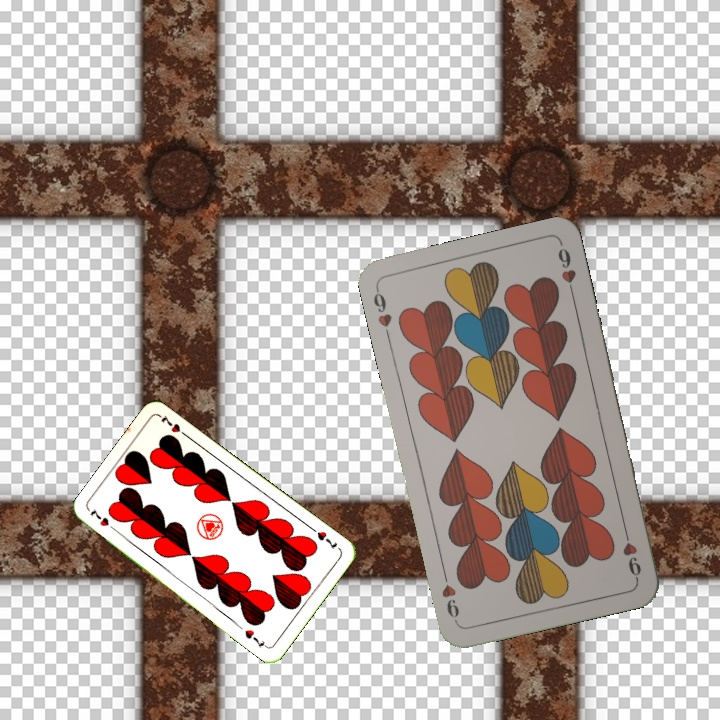H7: (86, 506, 120, 535), (307, 523, 340, 552)
H9: (618, 523, 644, 582), (369, 284, 395, 342)
